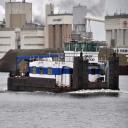tugboat: (8, 24, 122, 98)
